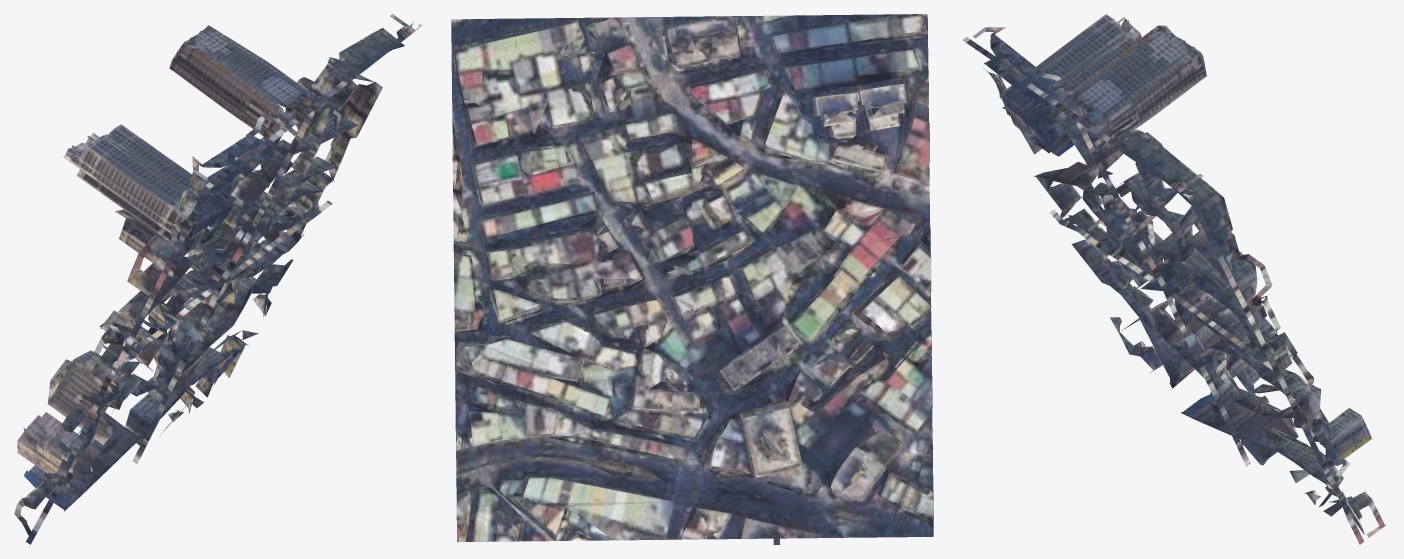
3 renders of one model, left to right at view 1: azimuth 30°, elevation 25°; view 2: azimuth 150°, elevation 25°; view 3: azimuth 270°, elevation 25°, orthographic. The views are drawn at different scales.
Bounding box in the file's own units: 310 × 313 × 273.
2 materials, 2 textured.
